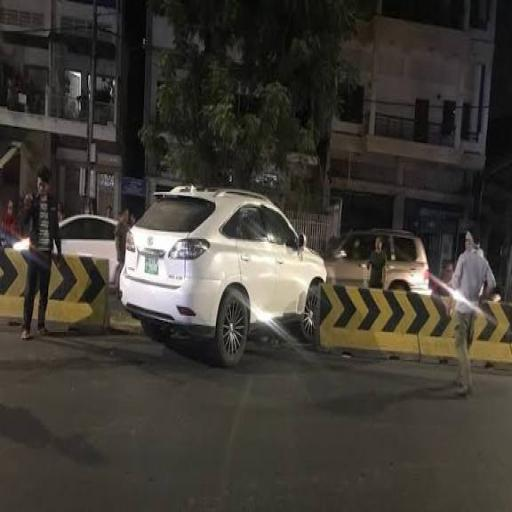Plate Number: (144, 254, 158, 276)
